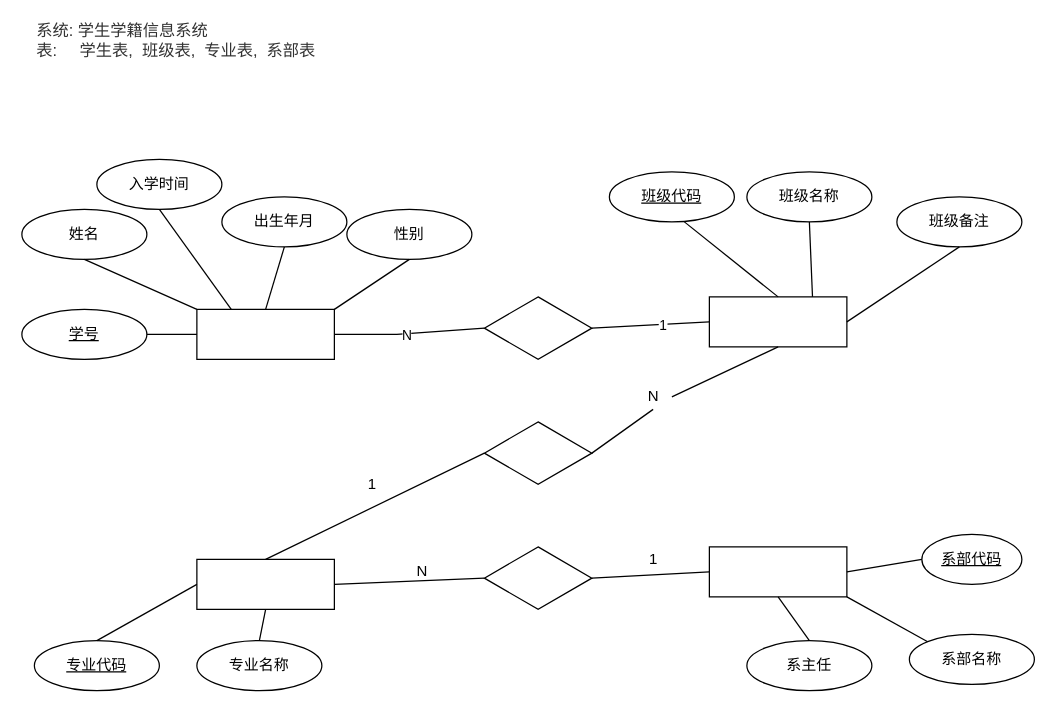
The diagram is 1056 pixels wide and 713 high, and some of its shapes have lost their labels. Each missing label, with the centre of its shape:
专业表: [265,583]
学生: [265,333]
班级: [777,321]
系部(学院): [777,571]
